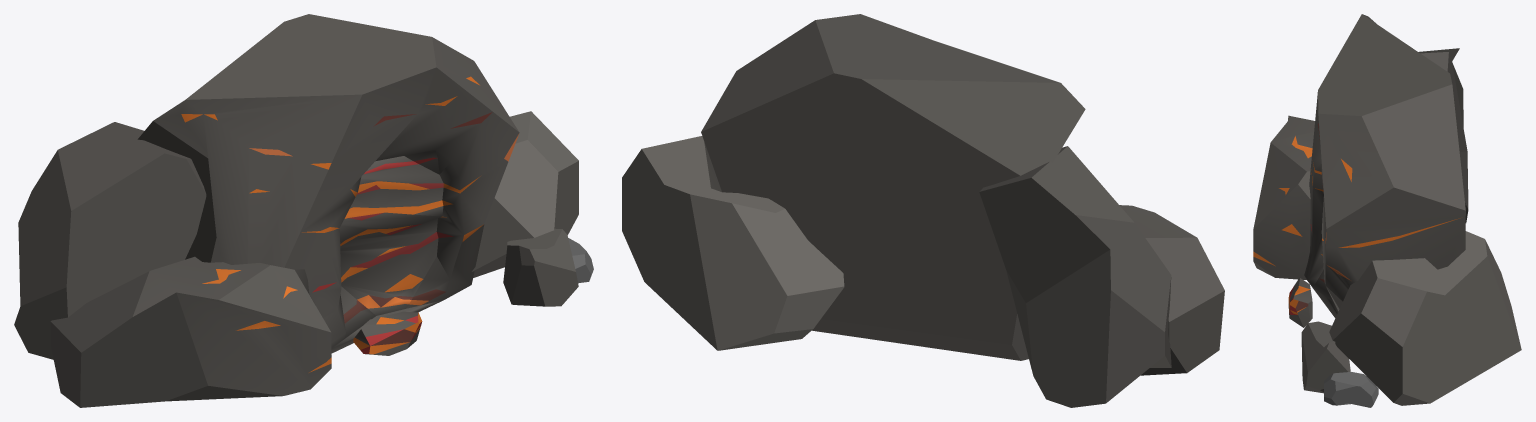
Rendered from iron_rock.fbx.
3 views of the same model, side by side, from view 1: azimuth 30°, elevation 25°; view 2: azimuth 150°, elevation 25°; view 3: azimuth 270°, elevation 25° (orthographic). The views are drawn at different scales.
Parts seen in each view (by area): view 1: rock, stone; view 2: rock; view 3: rock, stone.
Boxes of the visible parts, x1=… form: rock: x1=14, y1=14, x2=593, y2=407; stone: x1=353, y1=311, x2=422, y2=355; rock: x1=622, y1=14, x2=1224, y2=407; rock: x1=1253, y1=14, x2=1521, y2=407; stone: x1=1288, y1=278, x2=1312, y2=327.
Size of the model in its own units: 463 by 216 by 223.
